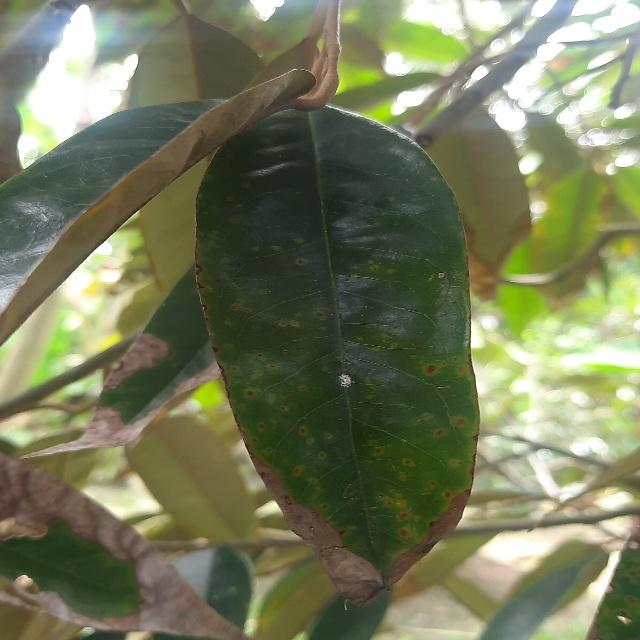Leaf Spot: (191, 99, 485, 624)
